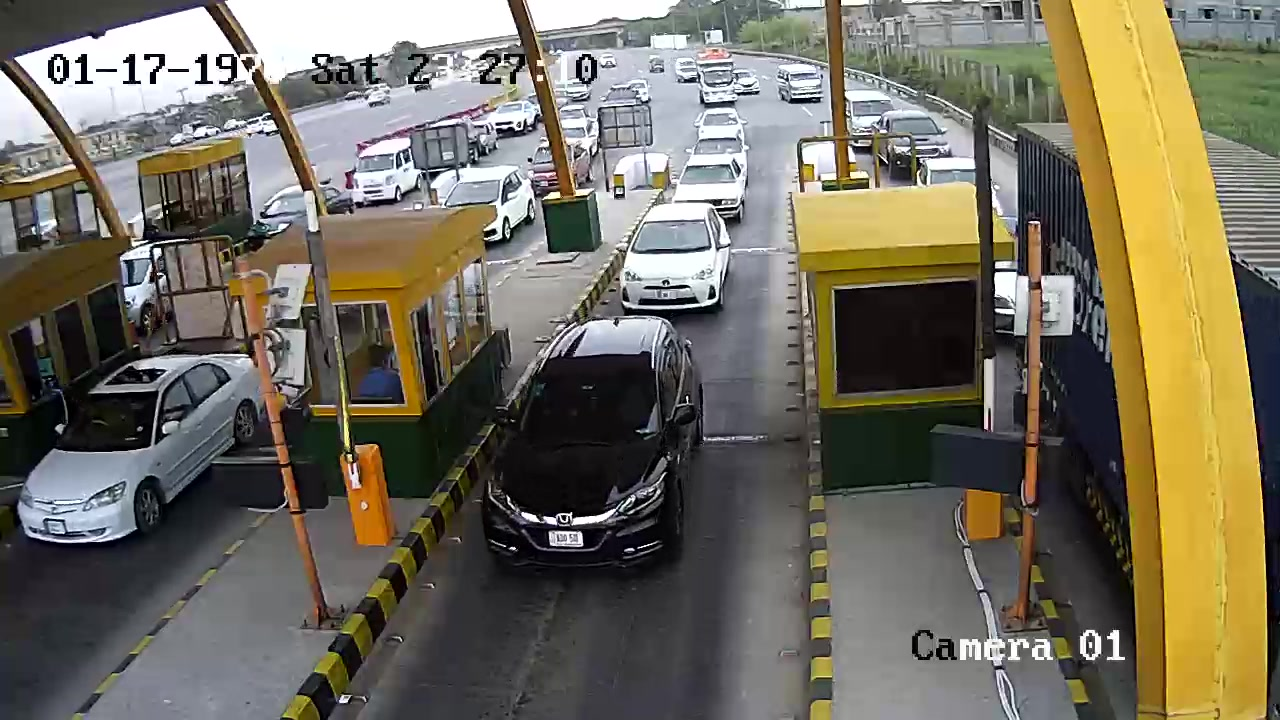F1: (471, 314, 713, 586), (611, 197, 733, 316)
